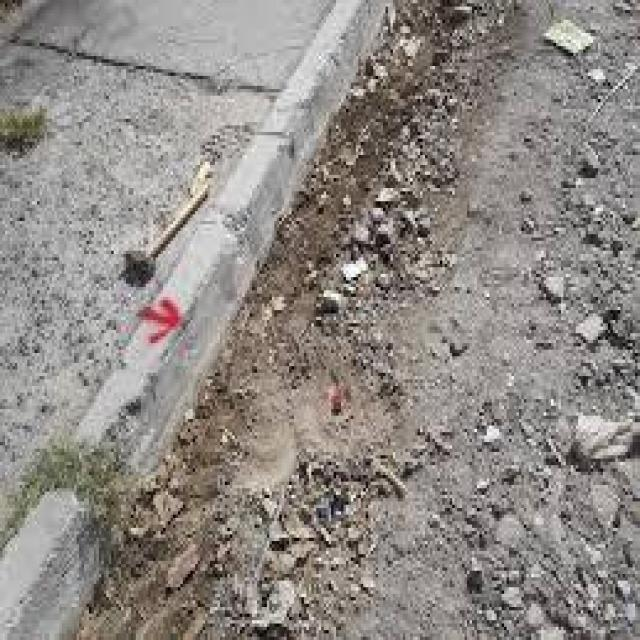curb: (4, 363, 215, 636), (216, 1, 383, 233), (122, 228, 285, 375)
